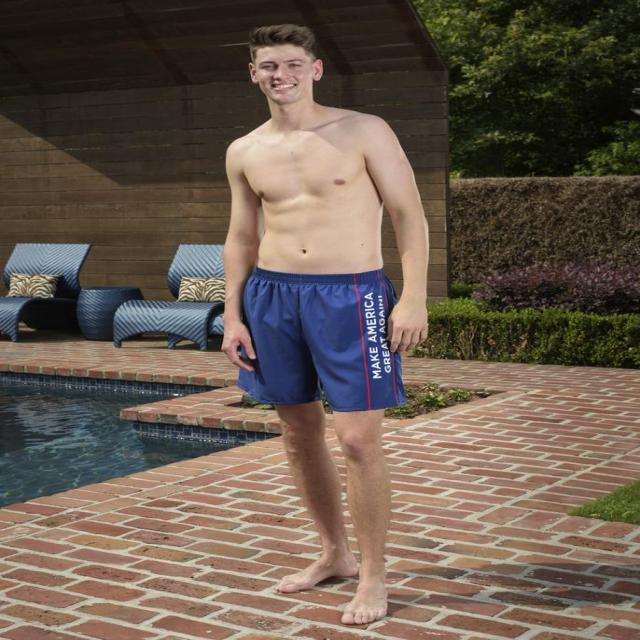mobile_phonerotation: (217, 22, 432, 625)
